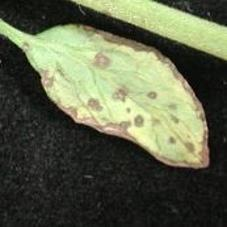Bacterial Spot: (25, 22, 211, 169)
